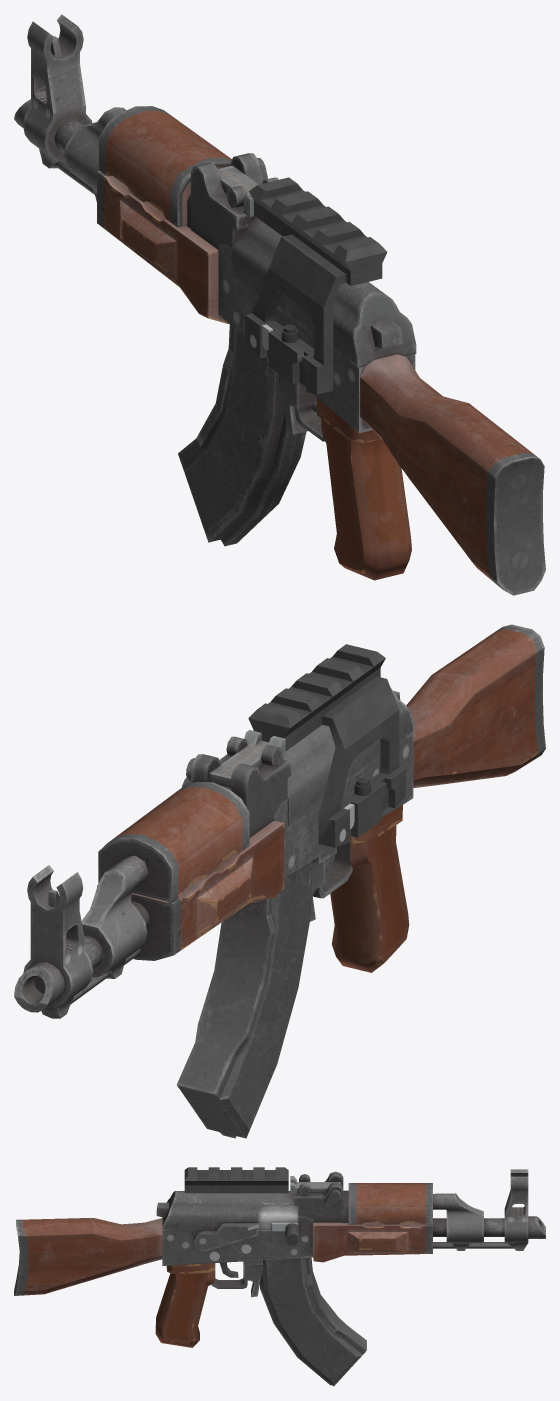
The model's file is IG_Gun_VOP136.fbx.
3 views of the same model, one above another, from view 1: azimuth 30°, elevation 25°; view 2: azimuth 150°, elevation 25°; view 3: azimuth 270°, elevation 25° (orthographic). The views are drawn at different scales.
Visible parts, largest first — view 1: WPN_VPO136, ShowIf_Scope; view 2: WPN_VPO136, ShowIf_Scope, HideIf_Muzzle; view 3: WPN_VPO136, ShowIf_Scope, HideIf_Muzzle.
Boxes of the visible parts, bbox=[...] form: WPN_VPO136: bbox=[23, 14, 545, 595]; ShowIf_Scope: bbox=[245, 177, 387, 394]; WPN_VPO136: bbox=[23, 624, 545, 1138]; ShowIf_Scope: bbox=[248, 644, 405, 847]; HideIf_Muzzle: bbox=[14, 962, 65, 1012]; WPN_VPO136: bbox=[14, 1169, 528, 1386]; ShowIf_Scope: bbox=[184, 1167, 288, 1193]; HideIf_Muzzle: bbox=[528, 1216, 545, 1238].
Size of the model in its own units: 0.1599 by 0.4804 by 1.09.
